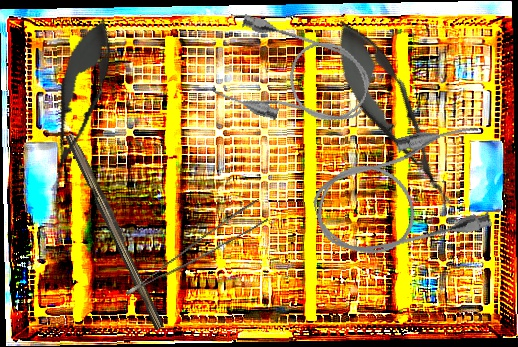Cannula: (302, 117, 504, 270), (210, 11, 379, 144)
Micro Scissor: (316, 9, 472, 219), (33, 12, 123, 198)
Scalpel Handle: (61, 131, 171, 331)
Tissue Forceps: (113, 198, 273, 296)
